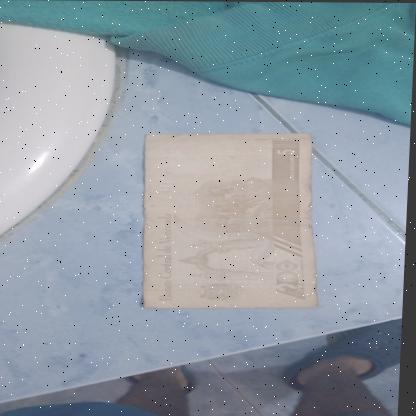vef_back: (138, 131, 327, 310)
